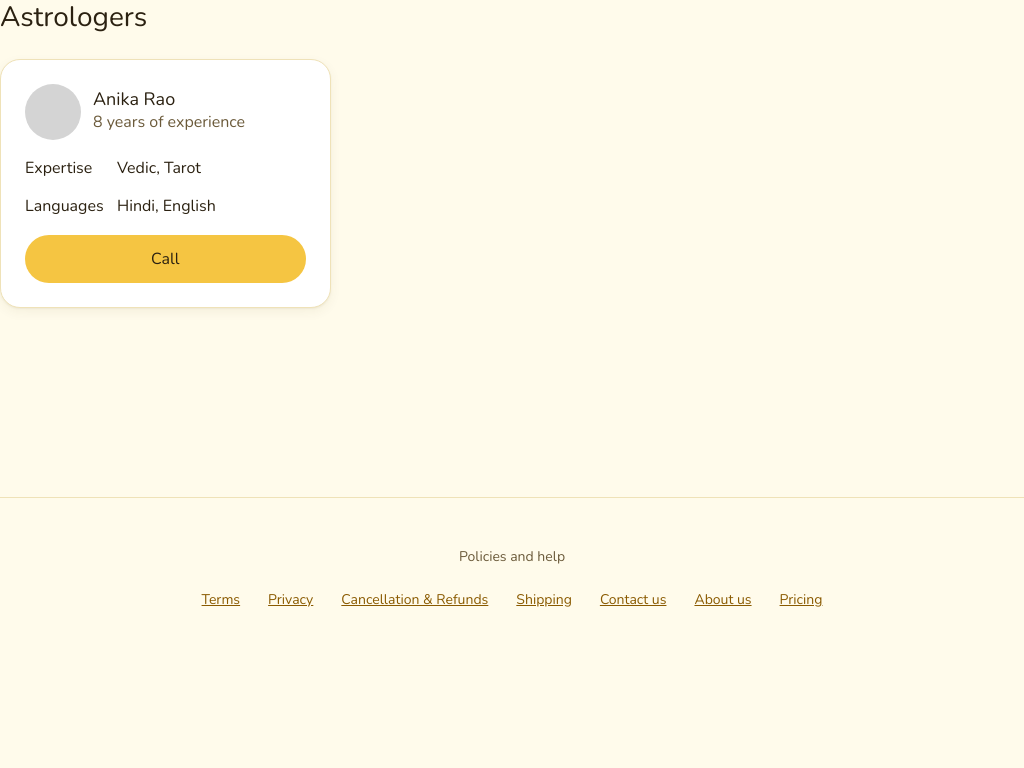
Test: HomePage › shows the friendly conflict when the chosen time was just booked
This screenshot has width=1024, height=768.
Click the button "Call" at point(165, 259), box [25, 235, 306, 283]
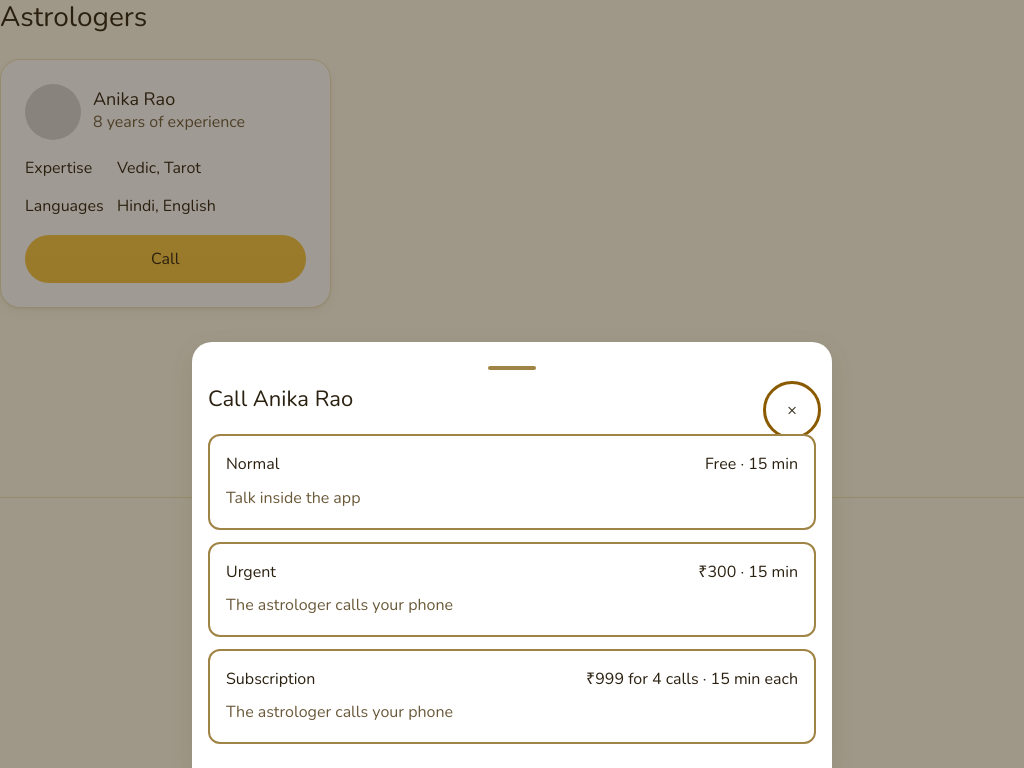
Click the button "Normal Free · 15 min Talk inside the app" at point(253, 464), box [208, 434, 816, 530]
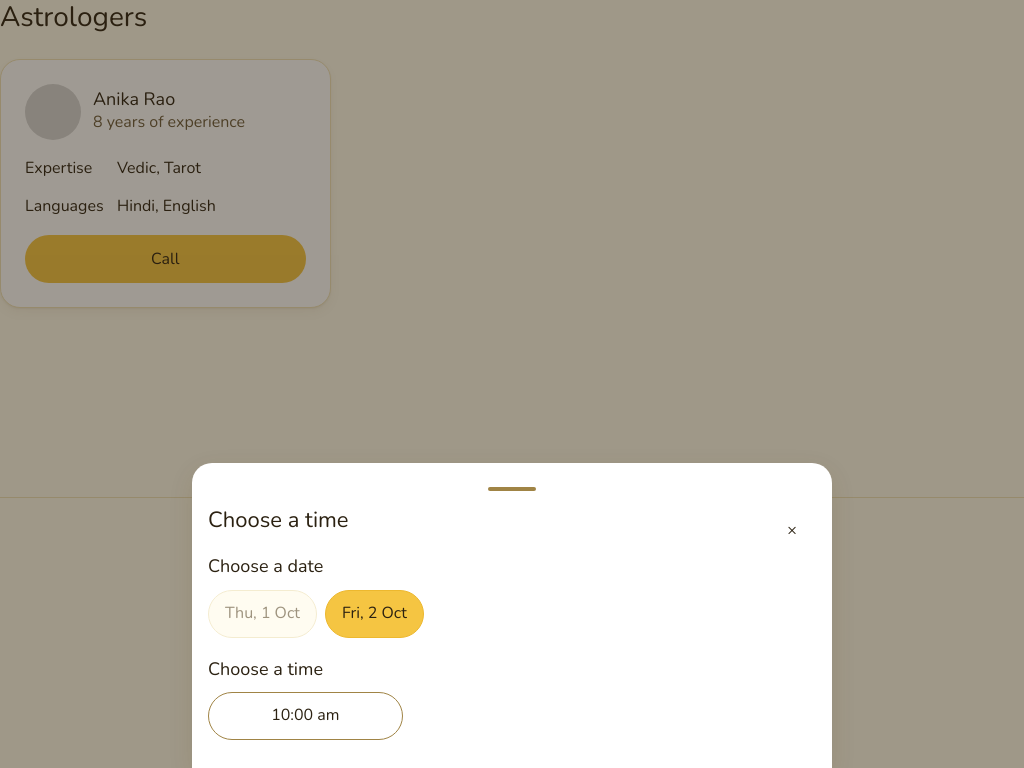
Click the button "10:00 am" at point(305, 716), box [208, 692, 403, 740]
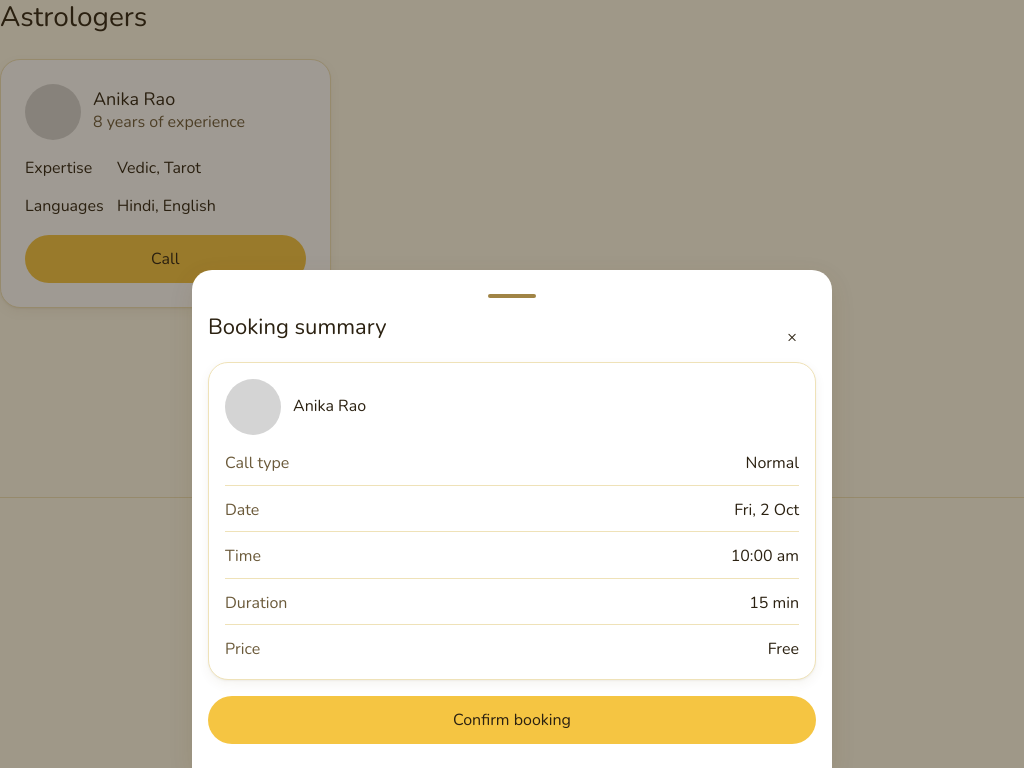
Click the button "Confirm booking" at point(512, 720), box [208, 696, 816, 744]
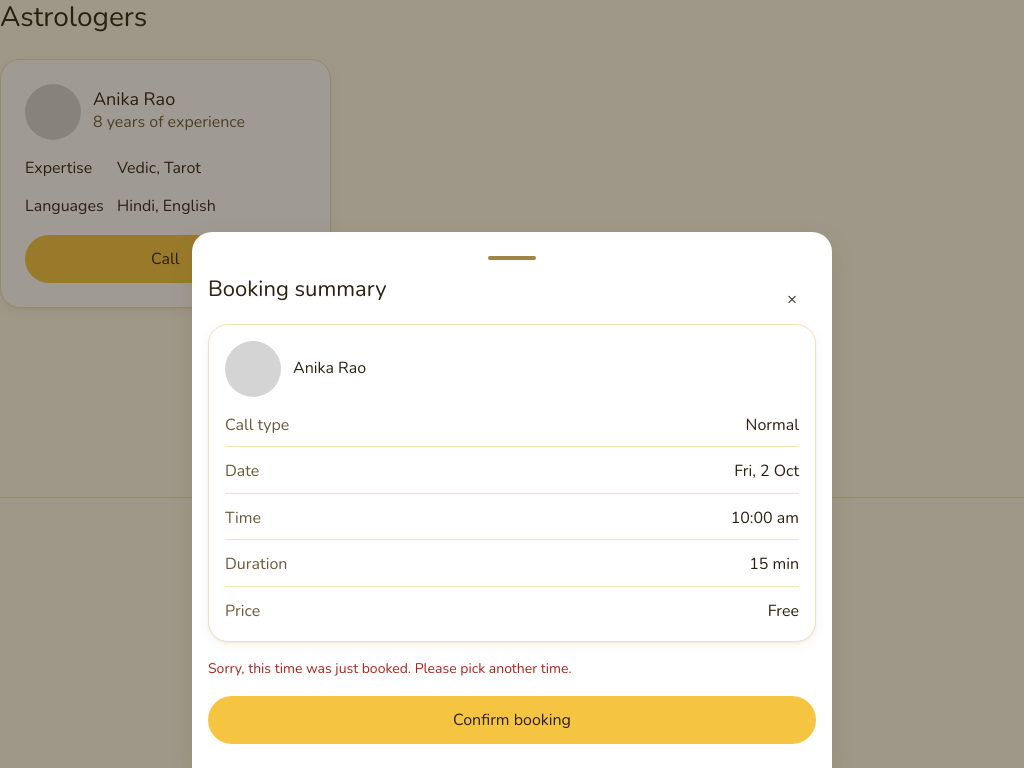
Expected: the message reads "Sorry, this time was just booked. Please pick another time.", [208, 659, 572, 678]
